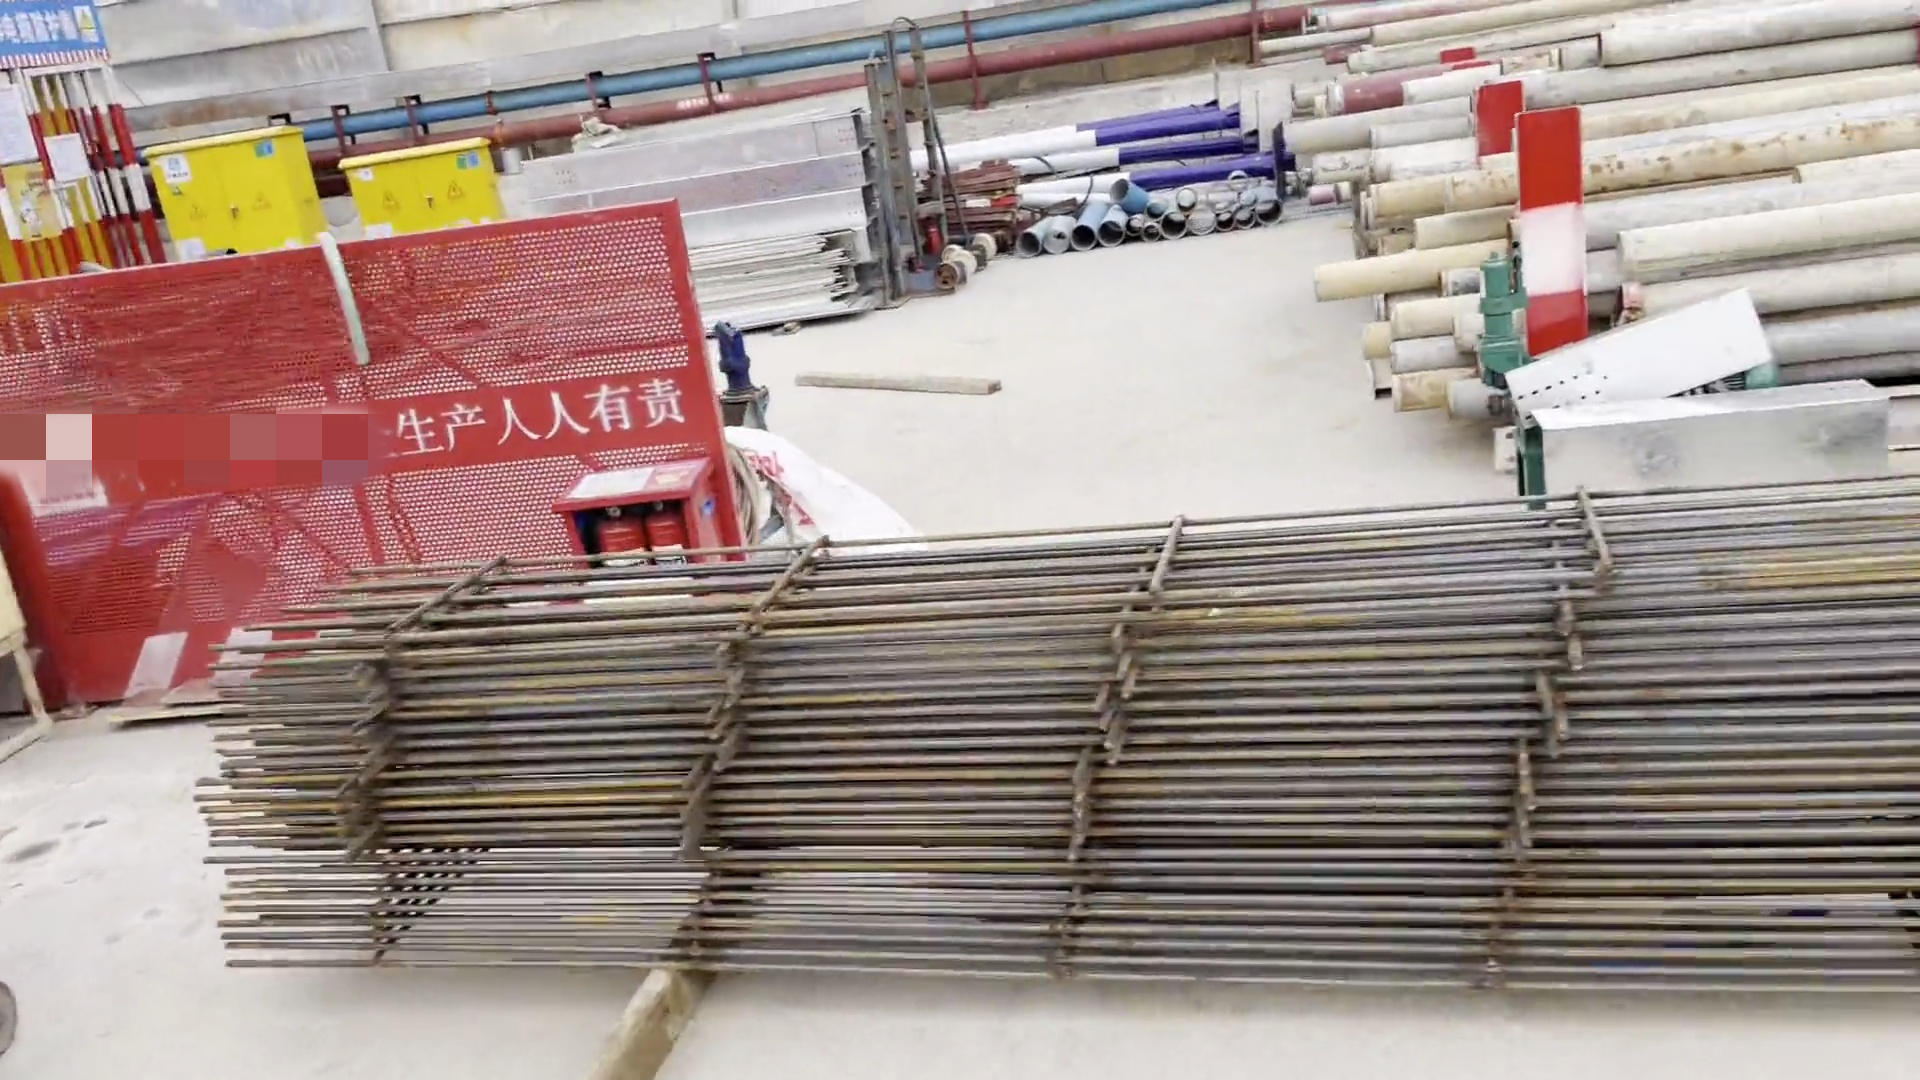ebox: (129, 117, 533, 265), (3, 100, 150, 281)
fence: (1, 195, 785, 665)
rebar: (179, 520, 1920, 1052)
slogan: (1, 1, 138, 73)
